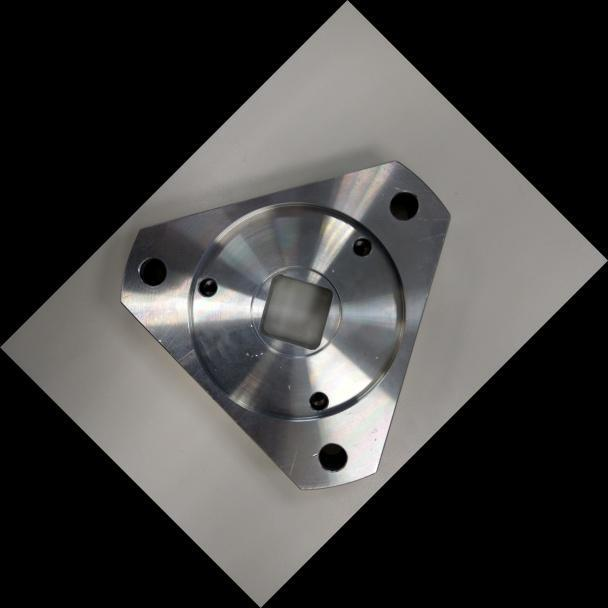hole: (307, 433, 357, 482), (380, 182, 428, 229), (129, 247, 176, 294), (344, 229, 379, 264), (189, 270, 224, 304), (302, 385, 335, 418)
